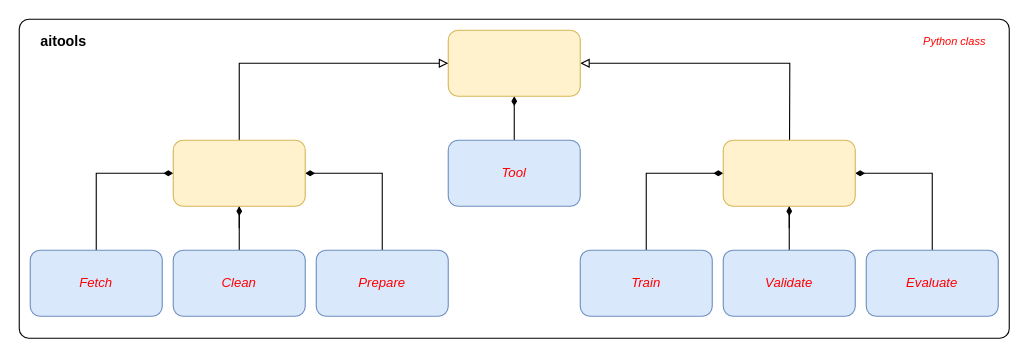
This 1029x358 diagram has some shape labels left out. Each missing label, with the centre of its shape:
"ExploreData.py" belongs at (238,172).
"Modeling.py" belongs at (788,172).
"Toolbox.py" belongs at (513,62).
